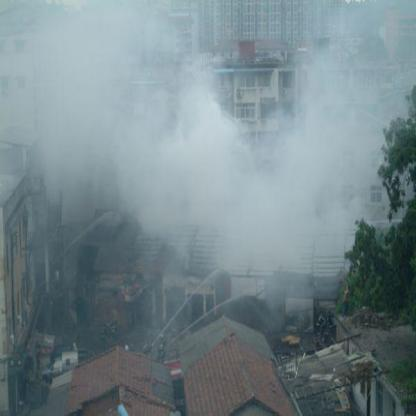smoke: (129, 69, 252, 233), (255, 108, 340, 243)
